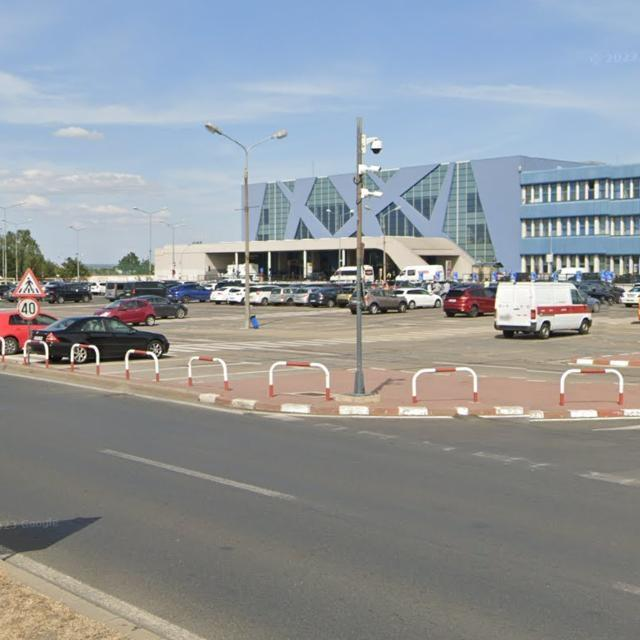forb_speed_over_40: (17, 297, 40, 320)
warn_crosswalk: (12, 267, 46, 298)
